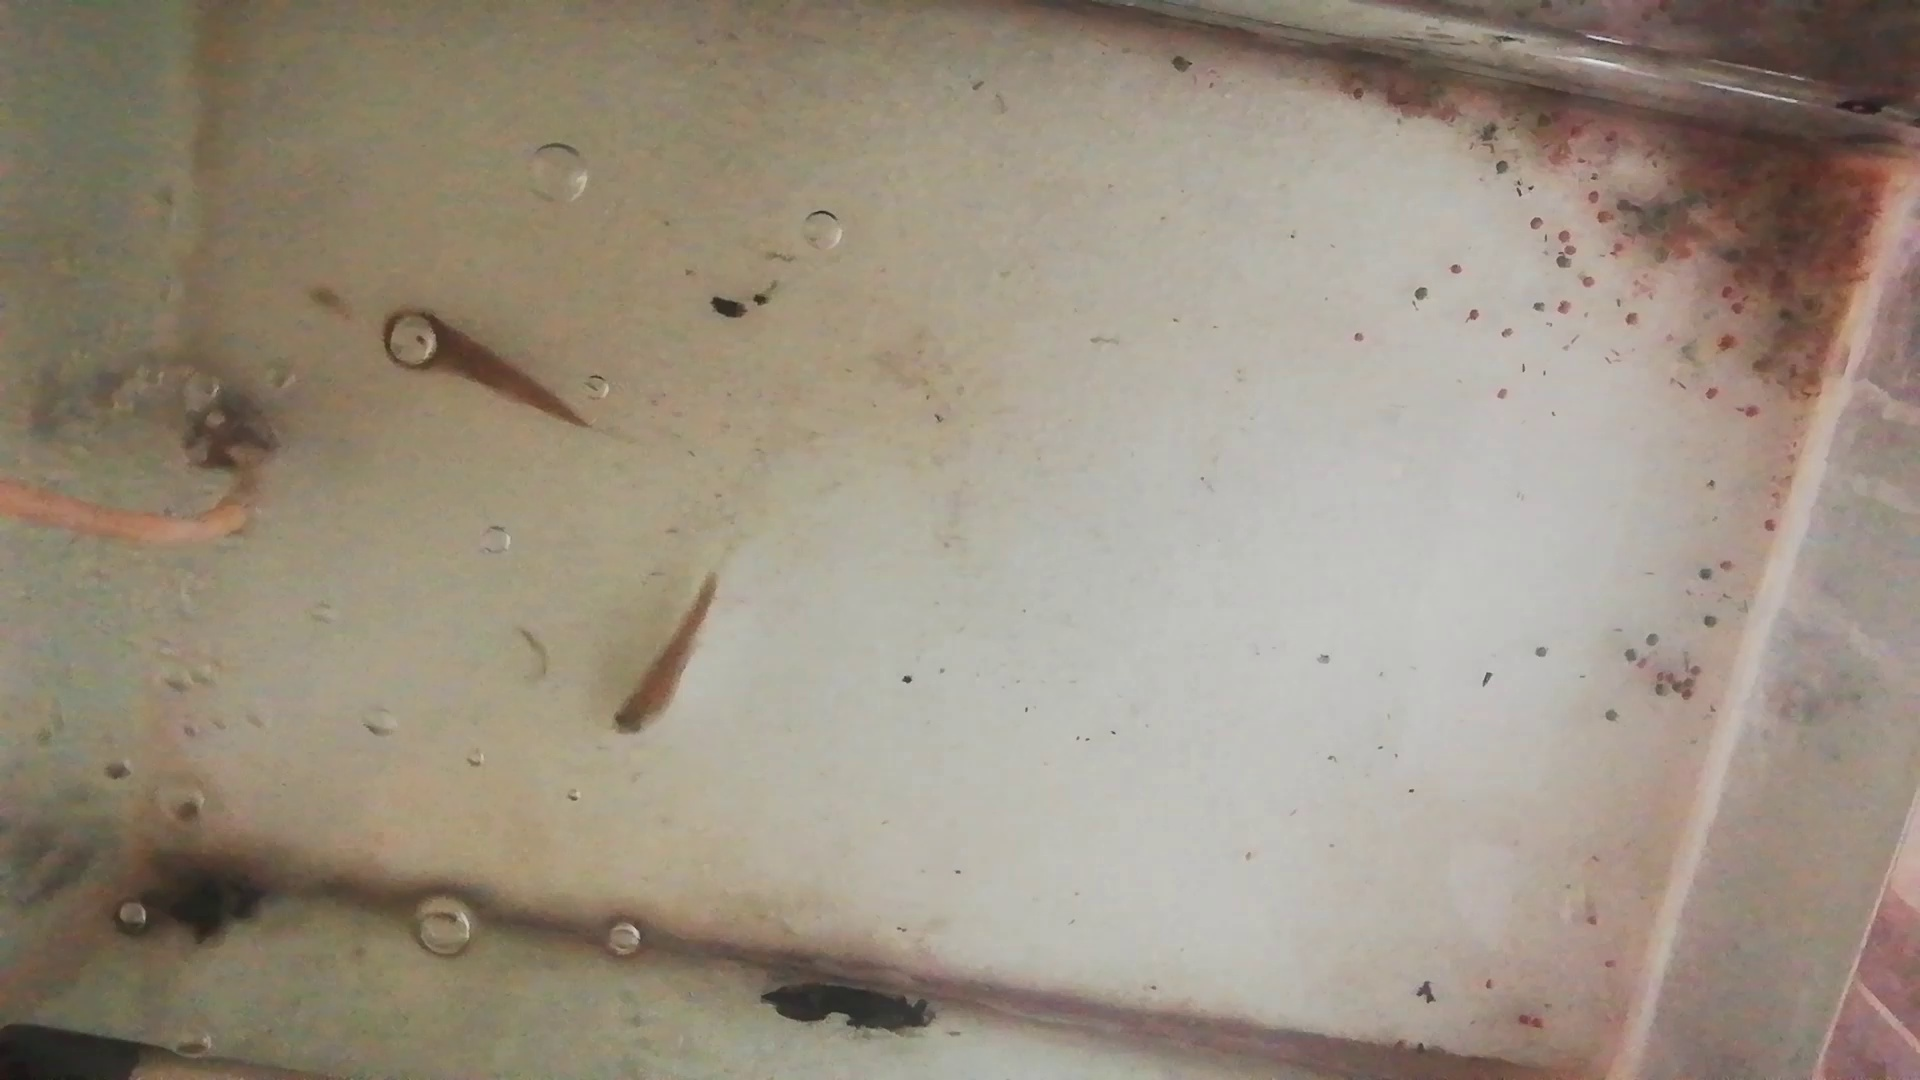fish: (380, 307, 585, 433), (611, 575, 717, 736)
